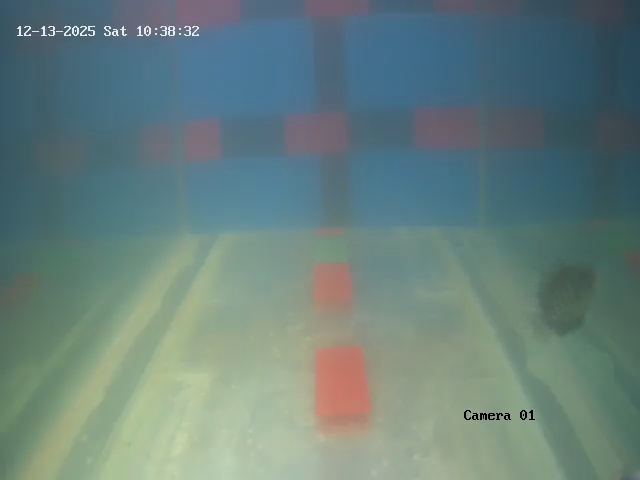fish: (535, 256, 597, 339)
